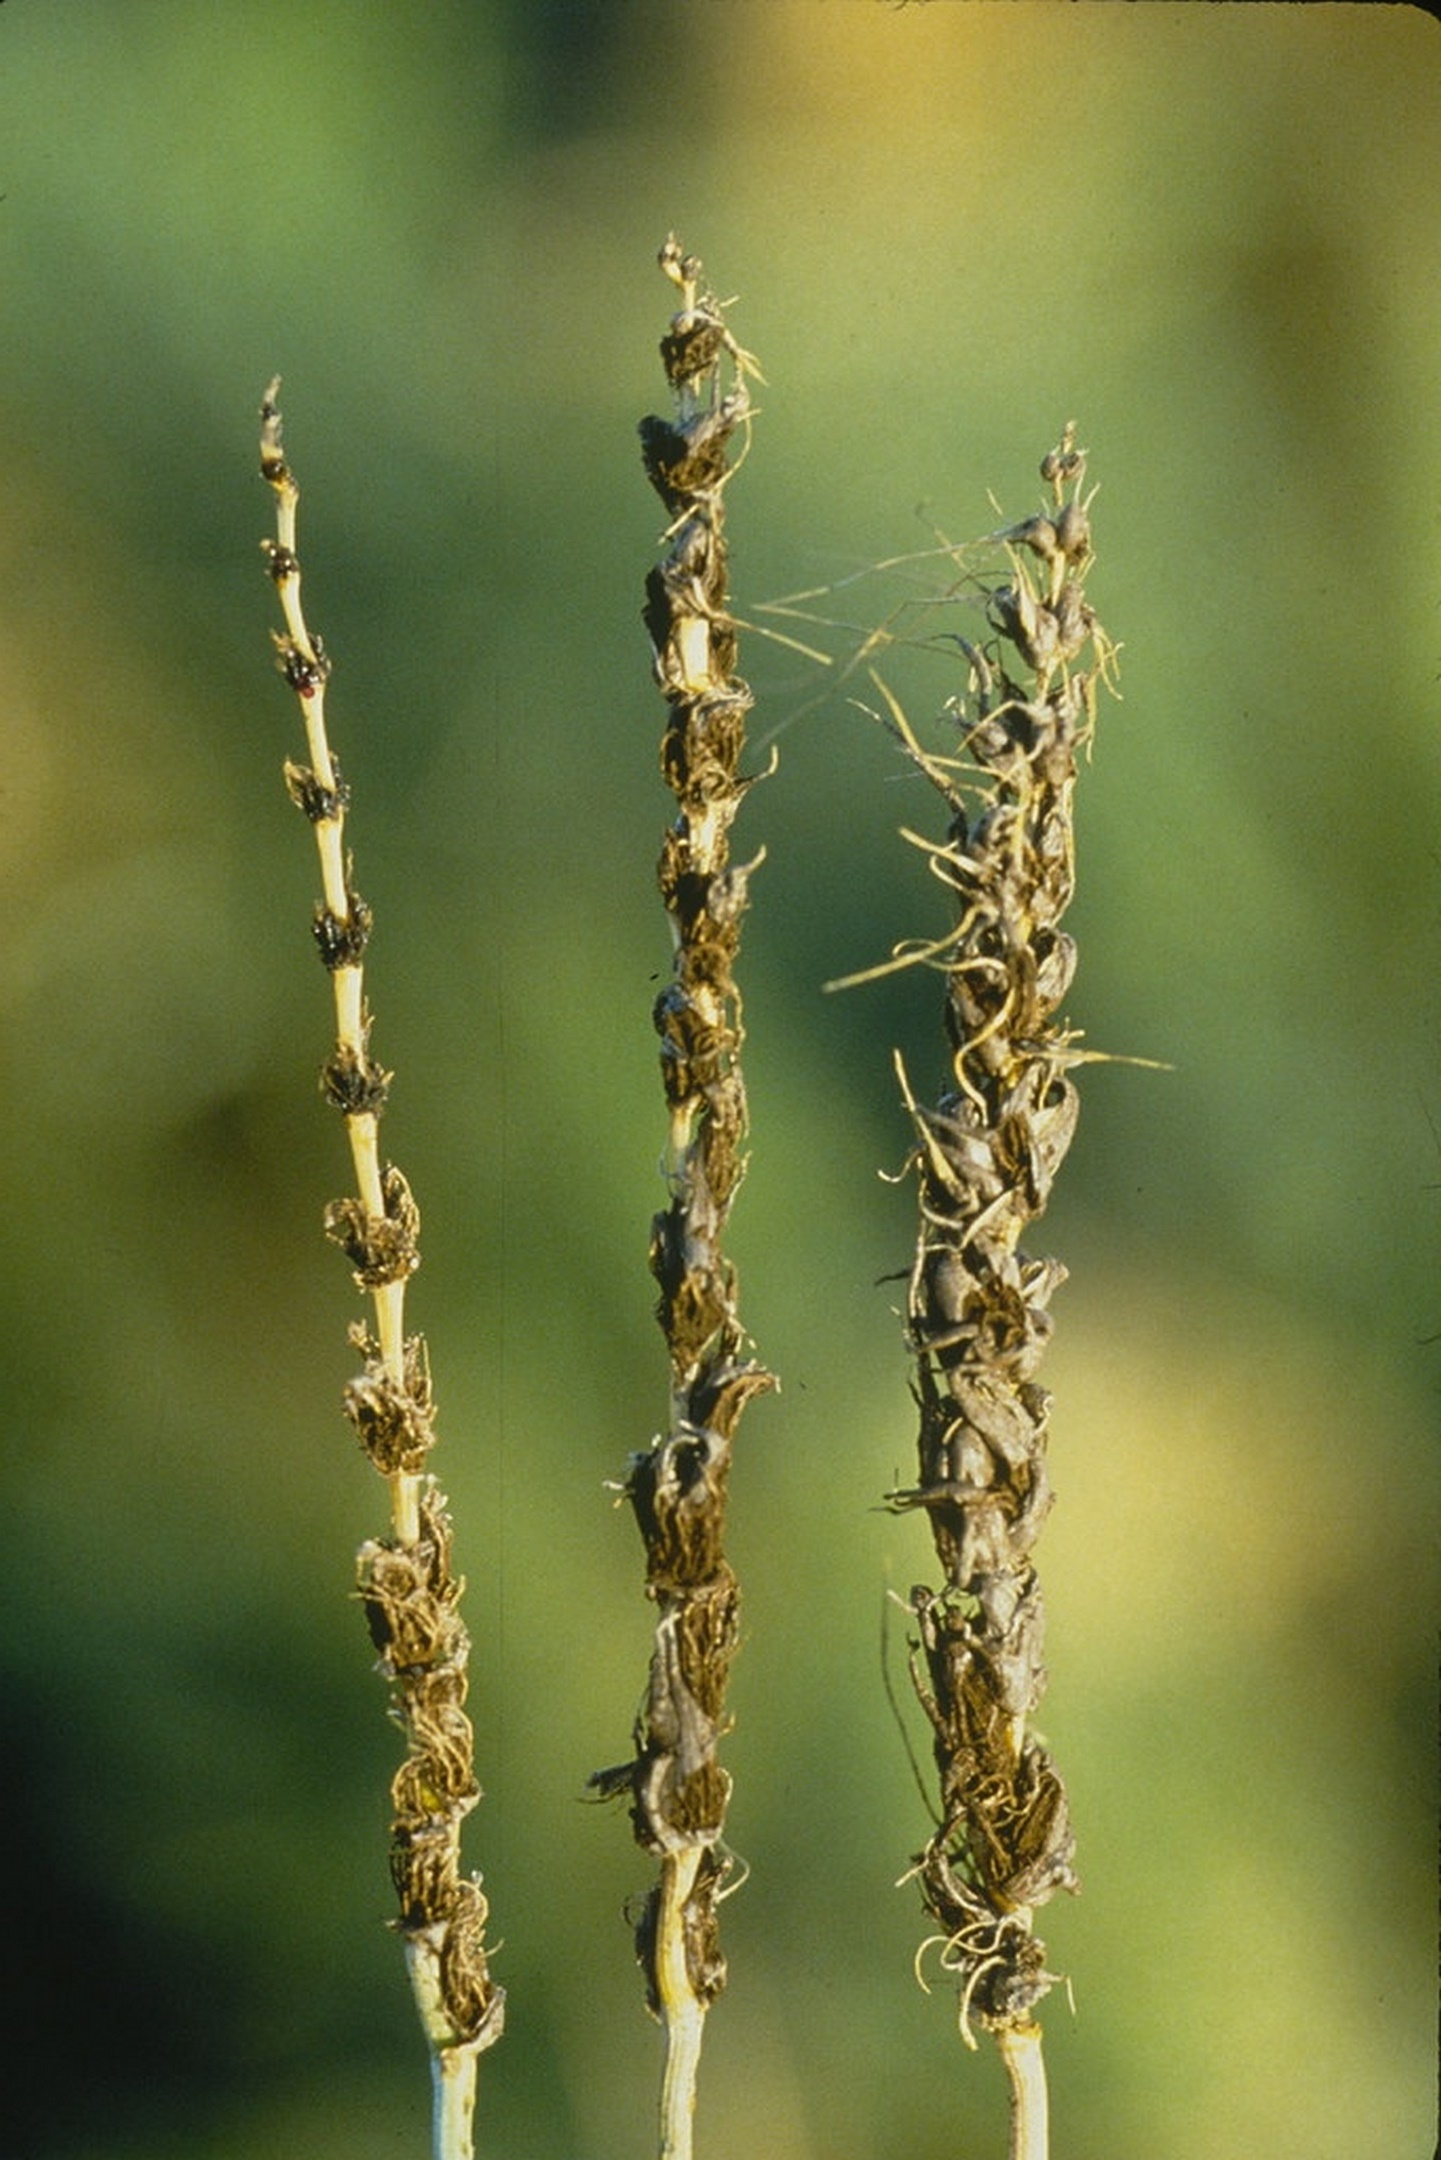Wheat Loose Smut: (568, 256, 1143, 1980)
